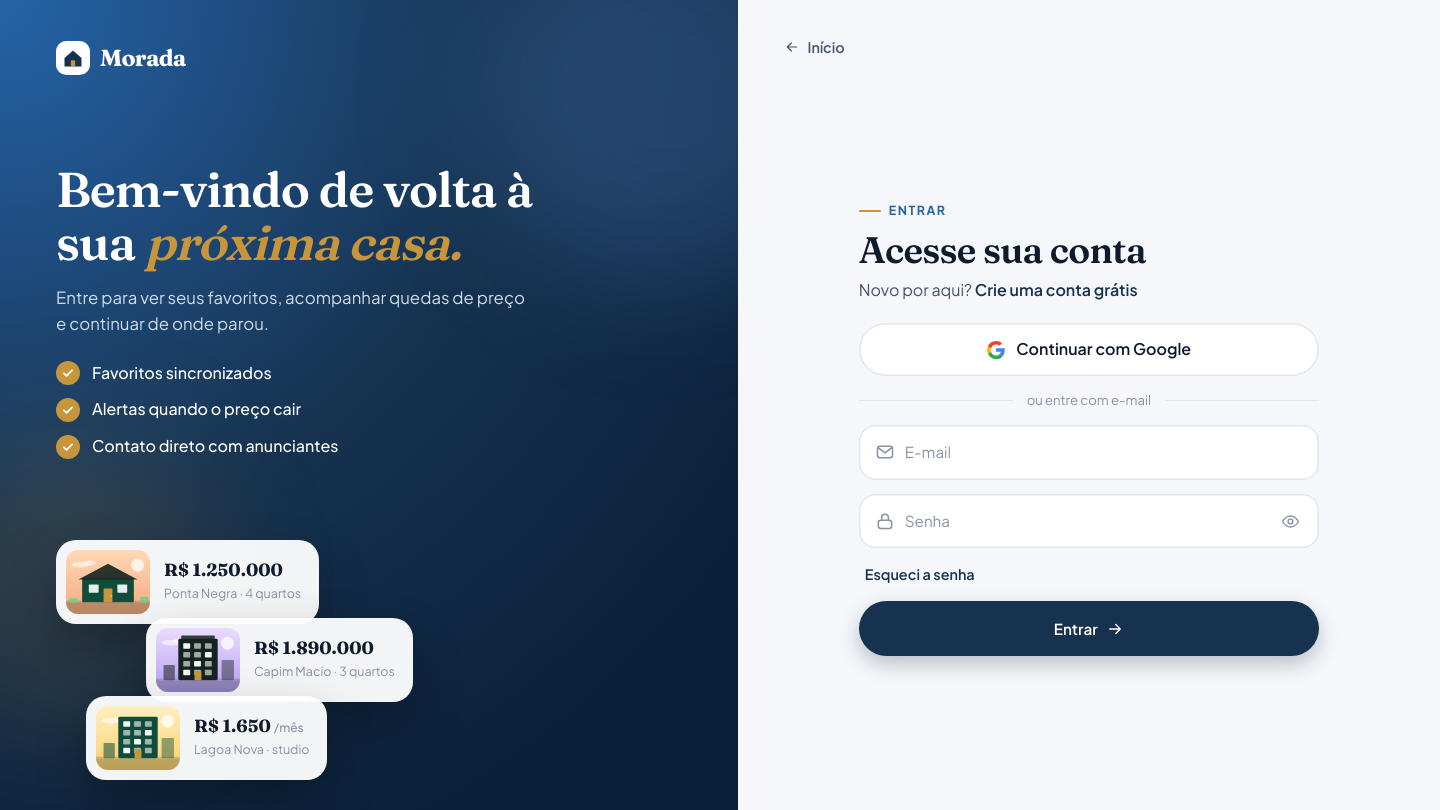
Test: Tela de Login (Login.jsx) › deve exibir mensagens de erro ao tentar enviar e-mail inválido e senha vazia
Type "email-invalido" into the field with id "email" at (1089, 452), box [859,425,1319,480]
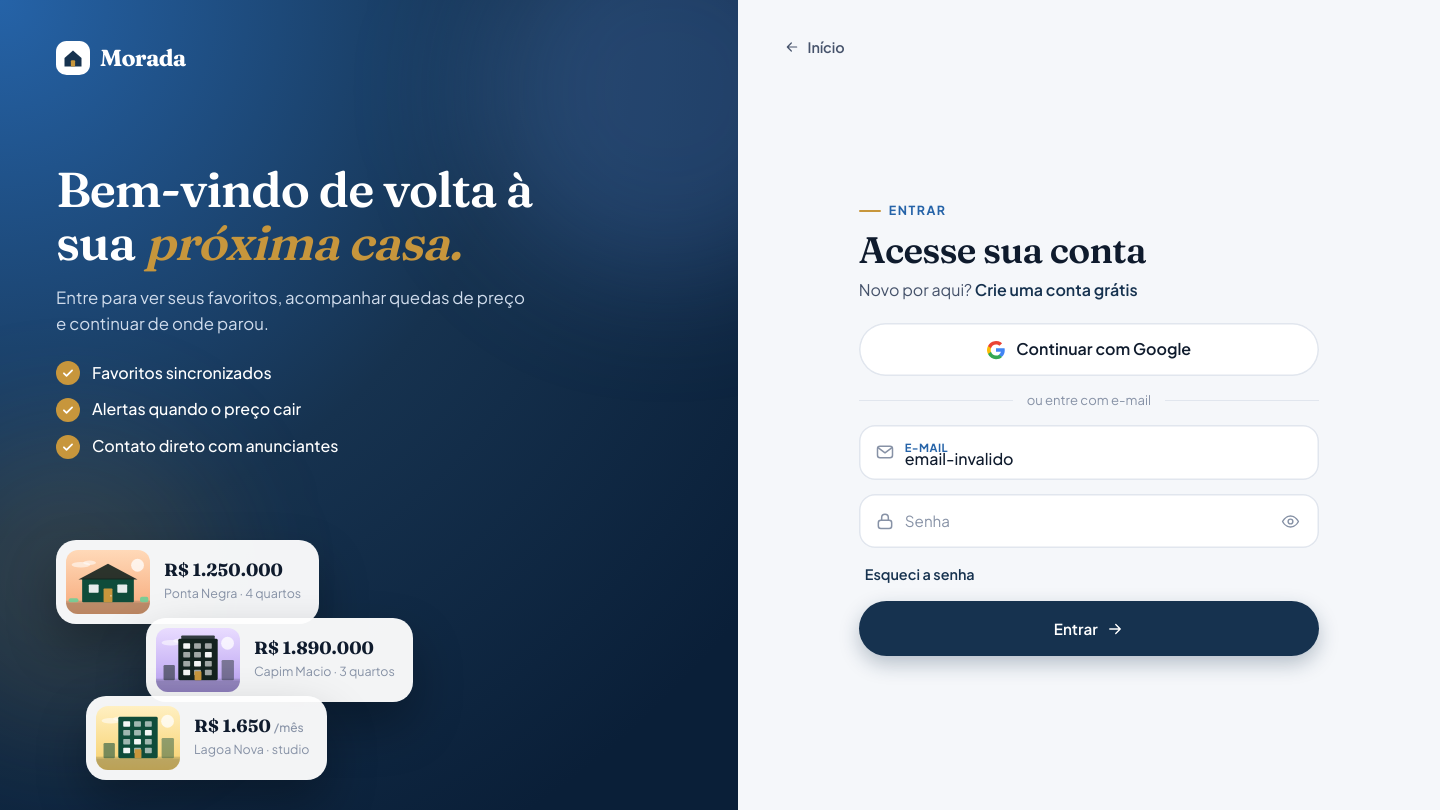
Click the button "Entrar" at (1089, 628), box [859,601,1319,656]
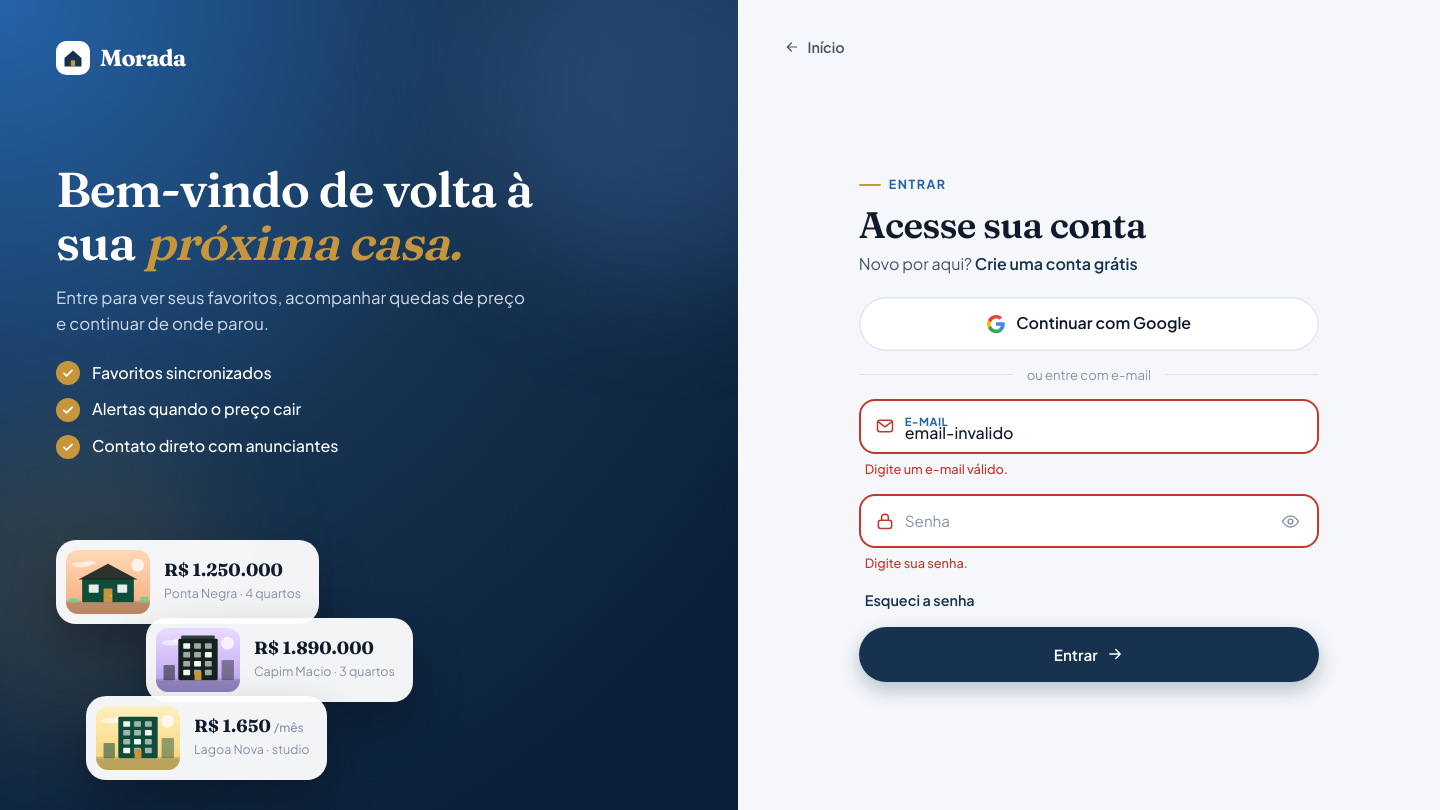
Expected: the text "Digite um e-mail válido." is shown, [865,461,1008,477]
Expected: the text "Digite sua senha." is shown, [865,555,968,571]
